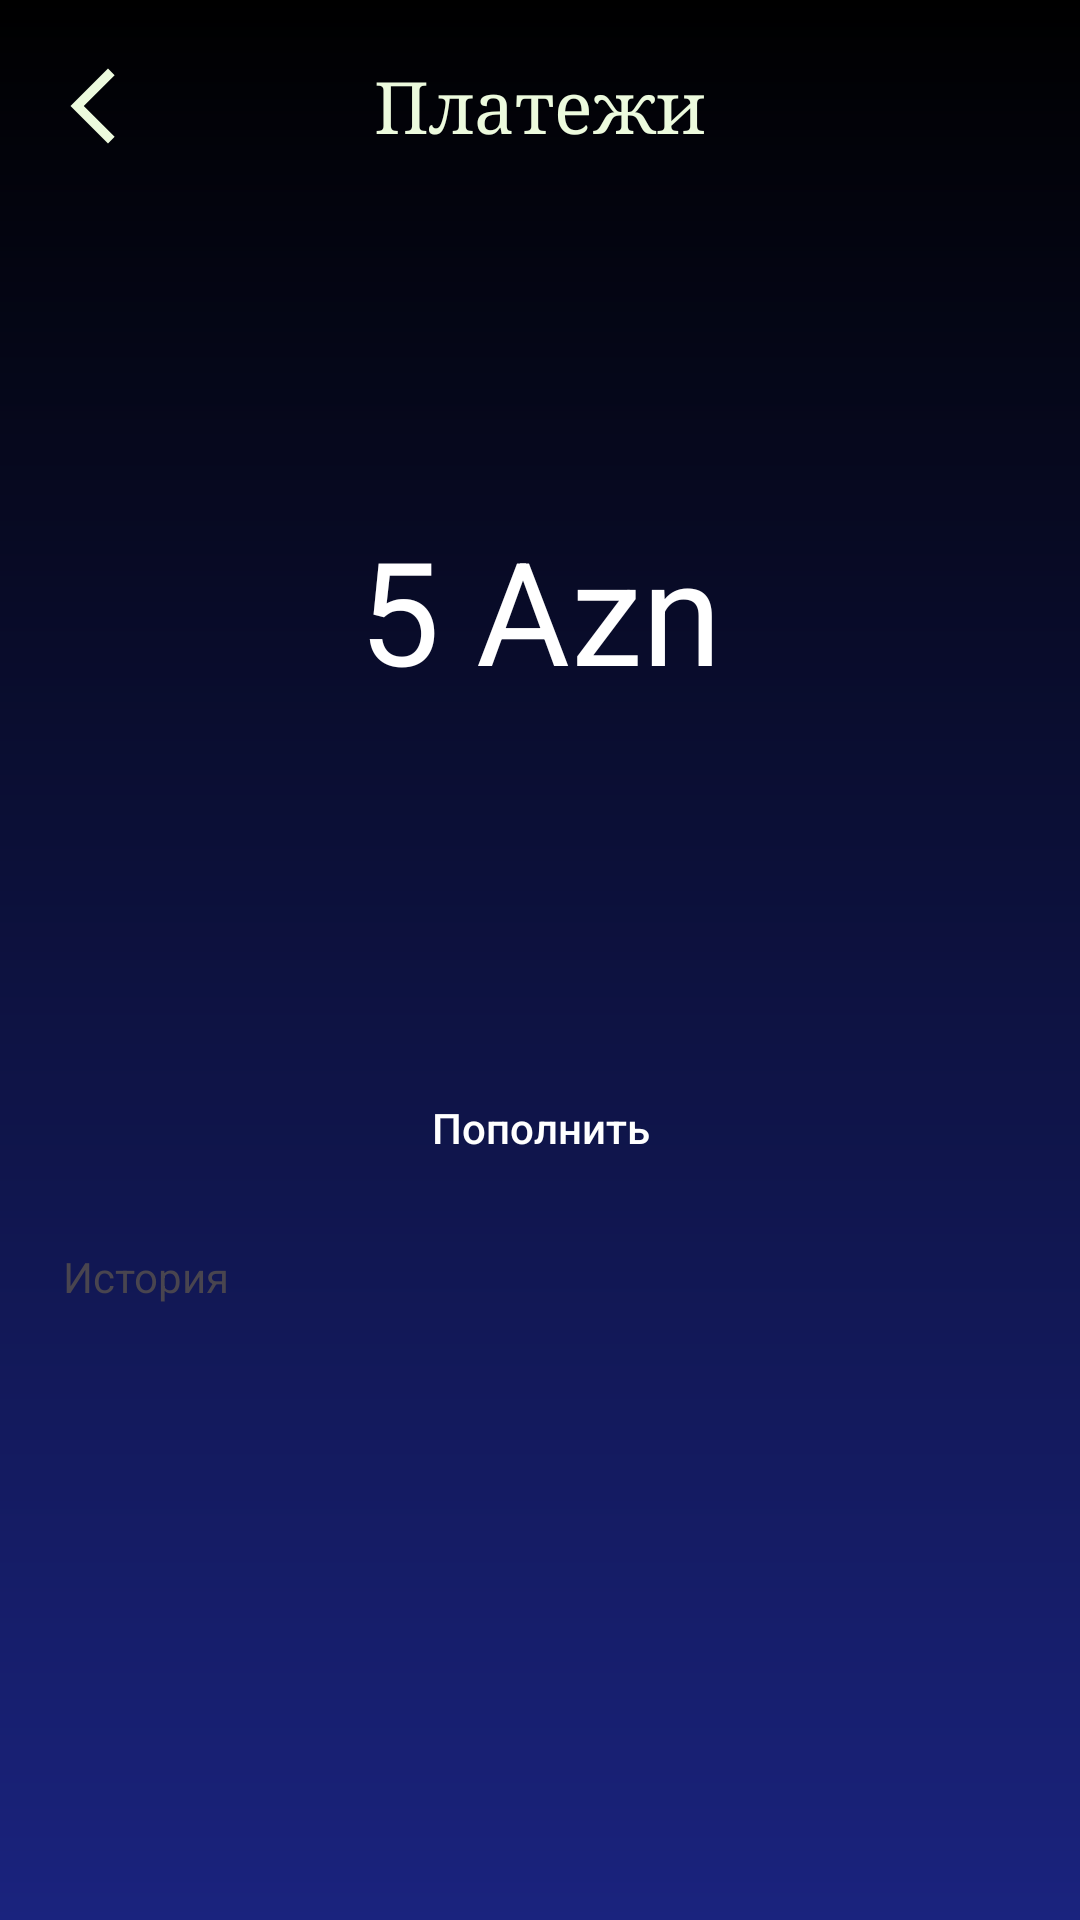

Where icons sit on this 1080x1920 app screen, as detection(x1, y1, x2, y2):
back: detection(70, 68, 115, 144)
